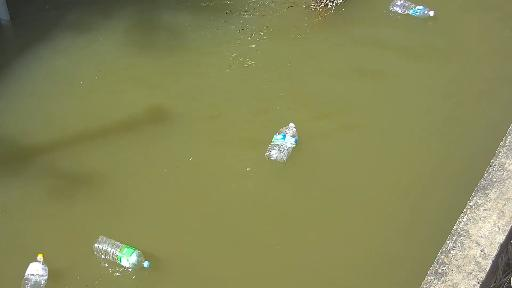plastic: (87, 228, 157, 269), (259, 118, 299, 164), (24, 250, 55, 288), (389, 0, 441, 20)
twig: (273, 0, 360, 21)
